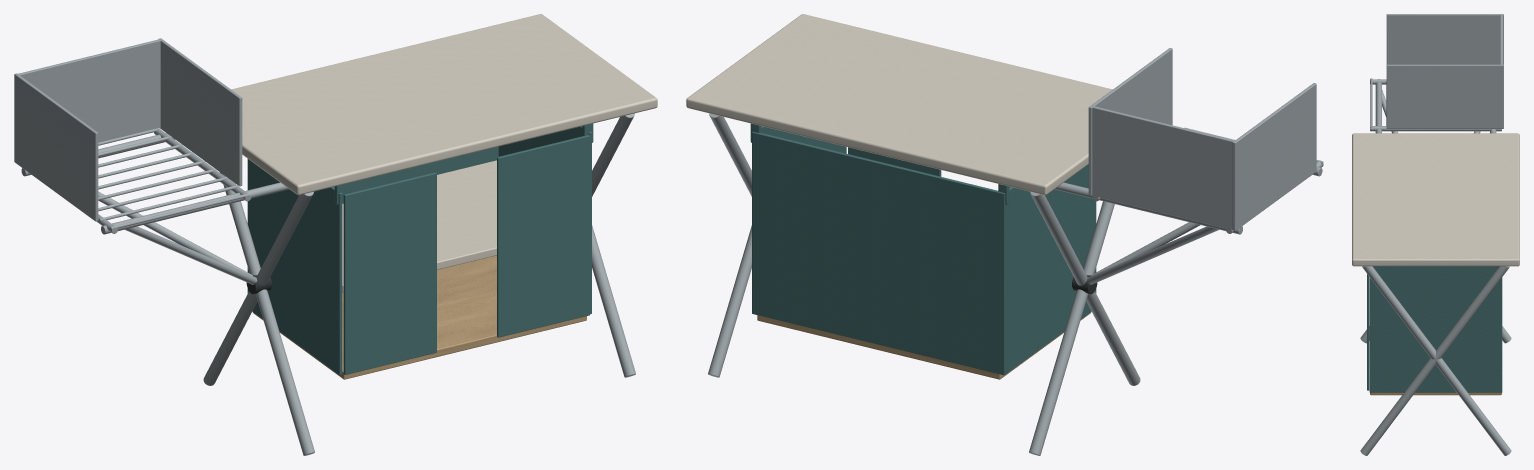
Rendered from camp_kitchen.glb.
3 views of the same model, side by side, from view 1: azimuth 30°, elevation 25°; view 2: azimuth 150°, elevation 25°; view 3: azimuth 270°, elevation 25° (orthographic). The views are drawn at different scales.
Visible parts, largest first — view 1: Camp kitchen primary top, Zipped front door, Zipped front door.001, Fabric side wall, Stove windscreen rear, Stove windscreen end, Stove windscreen end.001, Fabric cabinet floor, Visible inner shelf, Folding camp leg A, Folding camp leg B, Fabric rear wall (+7 smaller); view 2: Fabric rear wall, Camp kitchen primary top, Stove windscreen rear, Fabric side wall, Stove windscreen end, Stove windscreen end.001, Folding camp leg B, Folding camp leg A, Folding camp leg B.001, Fabric cabinet floor, Side rack folding diagonal stay.001, Fabric side wall.001 (+4 smaller); view 3: Camp kitchen primary top, Fabric side wall.001, Stove windscreen end.001, Stove windscreen end, Folding camp leg A.001, Folding camp leg B.001, Fabric cabinet floor, Side stove support, Zipped front door.001, Side rack cantilever rail.
Boxes of the visible parts, bbox=[...] form: Camp kitchen primary top: bbox=[231, 14, 657, 195]; Zipped front door: bbox=[343, 172, 436, 374]; Zipped front door.001: bbox=[497, 135, 589, 337]; Fabric side wall: bbox=[247, 159, 342, 375]; Stove windscreen rear: bbox=[15, 39, 160, 162]; Stove windscreen end: bbox=[14, 73, 98, 221]; Stove windscreen end.001: bbox=[158, 38, 242, 186]; Fabric cabinet floor: bbox=[252, 255, 586, 379]; Visible inner shelf: bbox=[342, 160, 496, 292]; Folding camp leg A: bbox=[219, 172, 314, 455]; Folding camp leg B: bbox=[203, 191, 313, 385]; Fabric rear wall: bbox=[334, 146, 498, 193]; Fabric rear wall: bbox=[753, 132, 1002, 374]; Camp kitchen primary top: bbox=[686, 14, 1112, 195]; Stove windscreen rear: bbox=[1091, 106, 1237, 229]; Fabric side wall: bbox=[1002, 164, 1096, 375]; Stove windscreen end: bbox=[1232, 83, 1316, 230]; Stove windscreen end.001: bbox=[1088, 48, 1172, 195]; Folding camp leg B: bbox=[1029, 201, 1114, 455]; Folding camp leg A: bbox=[1030, 191, 1140, 385]; Folding camp leg B.001: bbox=[708, 225, 751, 377]; Fabric cabinet floor: bbox=[757, 312, 1091, 379]; Side rack folding diagonal stay.001: bbox=[1086, 226, 1218, 284]; Fabric side wall.001: bbox=[752, 126, 846, 313]; Camp kitchen primary top: bbox=[1352, 133, 1519, 266]; Fabric side wall.001: bbox=[1369, 266, 1502, 392]; Stove windscreen end.001: bbox=[1386, 64, 1503, 128]; Stove windscreen end: bbox=[1386, 14, 1503, 64]; Folding camp leg A.001: bbox=[1360, 266, 1509, 455]; Folding camp leg B.001: bbox=[1362, 266, 1511, 455]; Fabric cabinet floor: bbox=[1370, 392, 1501, 395]; Side stove support: bbox=[1370, 126, 1501, 131]; Zipped front door.001: bbox=[1367, 274, 1369, 390]; Side rack cantilever rail: bbox=[1375, 79, 1381, 133].
Size of the model in its own units: 1.53 by 0.9769 by 0.573.
Materials: 6 (6 with a texture image).
